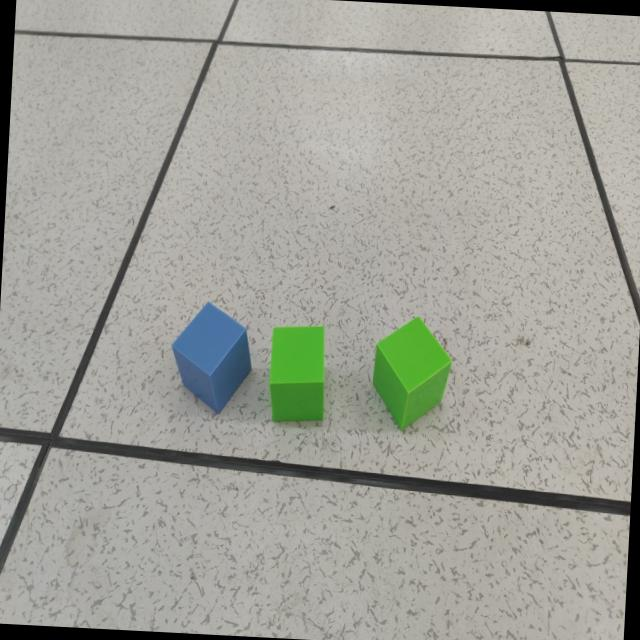blue: (171, 304, 252, 416)
green: (372, 320, 452, 433), (269, 326, 326, 424)
